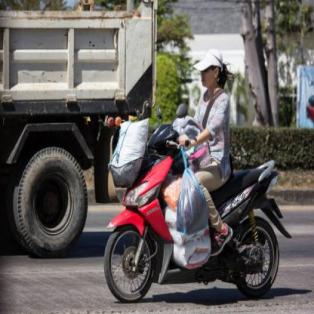Motocicleta: (100, 115, 287, 302)
